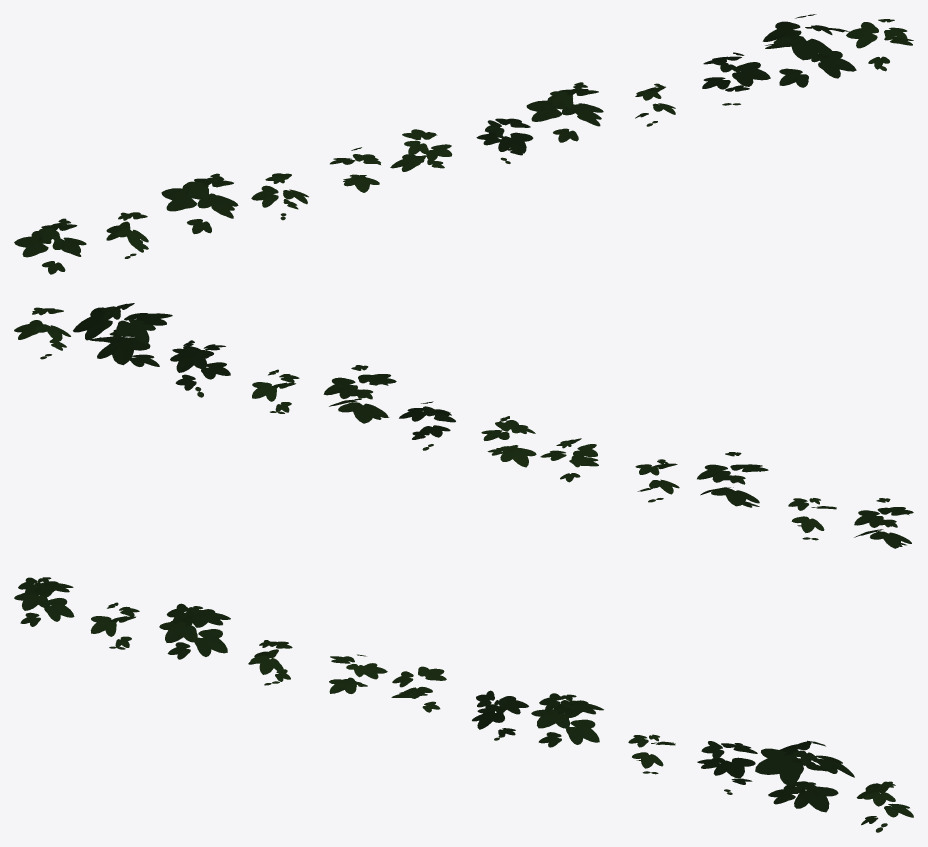
Rendered from ROW_00_SEG5_foliage.dae.
3 renders of one model, top to bottom at view 1: azimuth 30°, elevation 25°; view 2: azimuth 150°, elevation 25°; view 3: azimuth 330°, elevation 25°, orthographic.
Visible parts, largest first — view 1: ROW_00_SEG5_foliage; view 2: ROW_00_SEG5_foliage; view 3: ROW_00_SEG5_foliage.
Boxes of the visible parts, bbox=[...] form: ROW_00_SEG5_foliage: bbox=[14, 14, 913, 274]; ROW_00_SEG5_foliage: bbox=[14, 303, 913, 548]; ROW_00_SEG5_foliage: bbox=[14, 577, 913, 832].
Bounding box in the file's own units: 3.64 × 0.3424 × 0.268.
